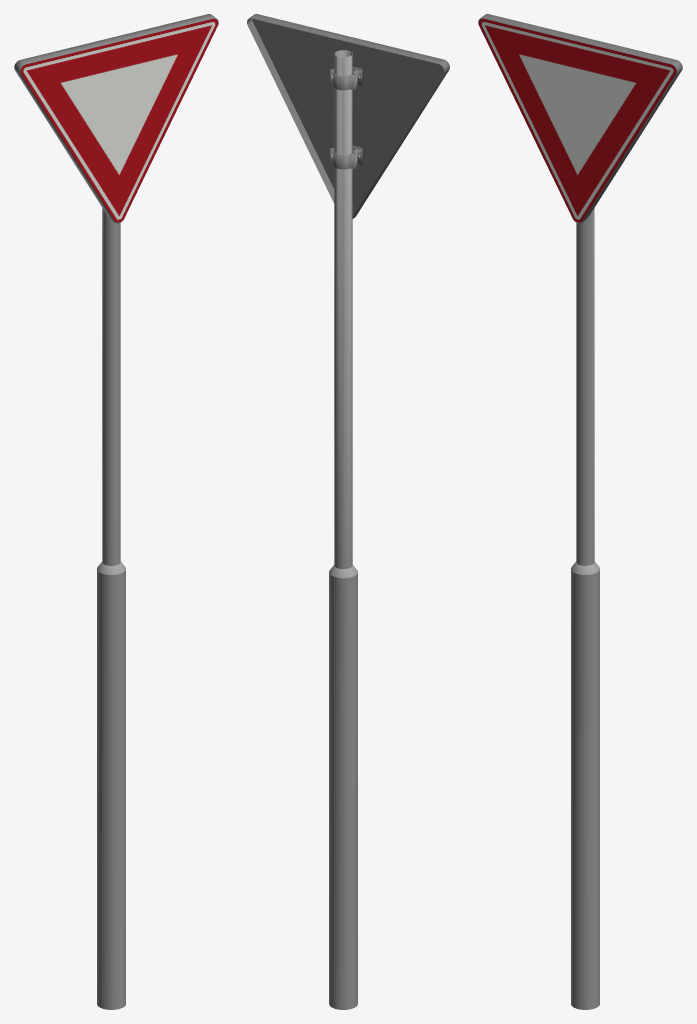
The model's file is PoleWithSignTriangleDown60.obj.
3 views of the same model, side by side, from view 1: azimuth 30°, elevation 25°; view 2: azimuth 150°, elevation 25°; view 3: azimuth 330°, elevation 25° (orthographic).
Visible parts, largest first — view 1: pole_1, sign_3, back_2; view 2: pole_1, back_2, bracket_9, bracket_15; view 3: pole_1, sign_3, back_2.
Part boxes in pixels (box(x1,y1,x2,y2)): pole_1: box(97, 208, 125, 1009); sign_3: box(20, 18, 218, 222); back_2: box(14, 14, 218, 223); pole_1: box(329, 50, 357, 1009); back_2: box(247, 14, 449, 218); bracket_9: box(330, 148, 361, 169); bracket_15: box(330, 69, 361, 90); pole_1: box(571, 208, 599, 1009); sign_3: box(478, 18, 676, 222); back_2: box(478, 14, 682, 223).
Size of the model in its own units: 60 by 278 by 7.9.
Materials: 9 (1 with a texture image).
